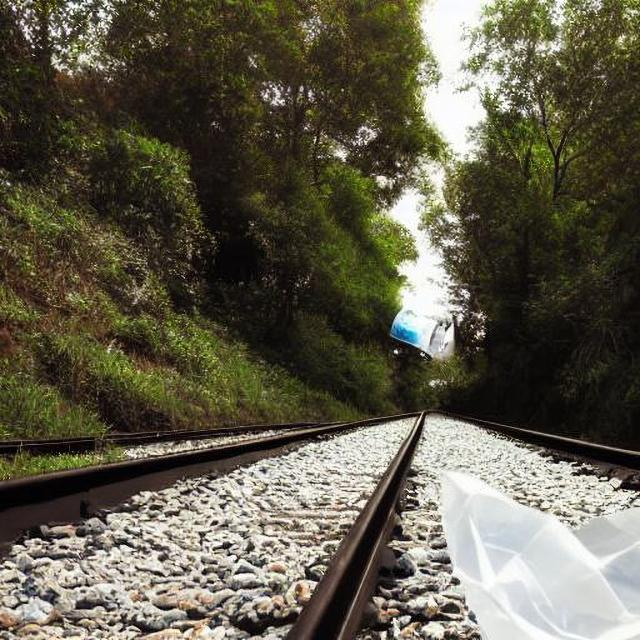plastic bag: (459, 486, 640, 635), (389, 307, 479, 350)
